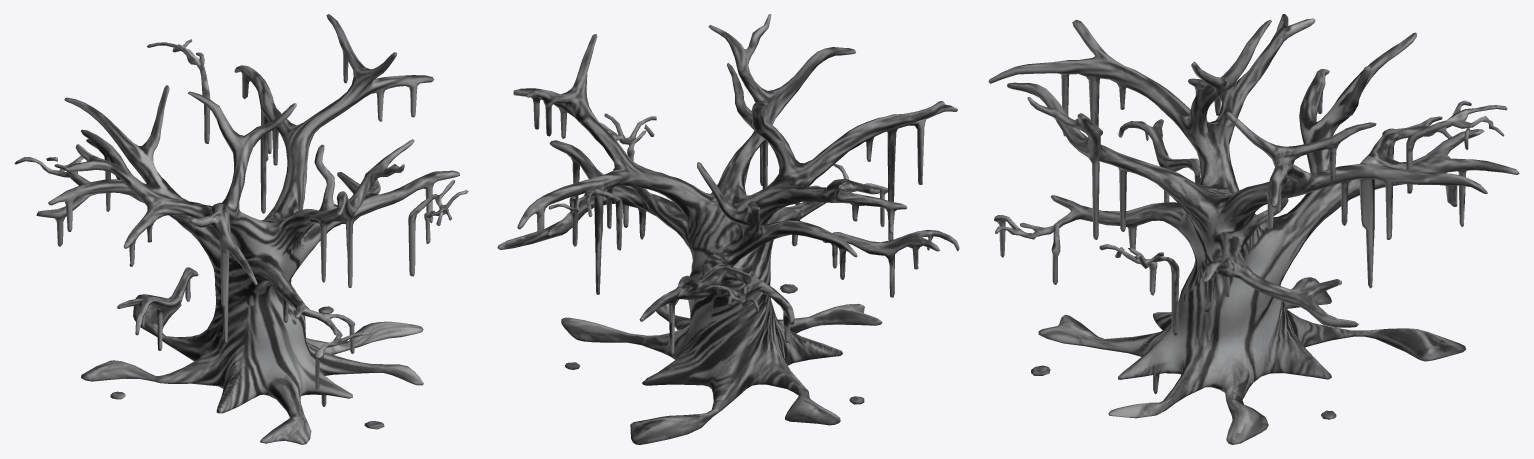
Rendered from tree1.glb.
The picture shows the model from 3 angles, left to right: view 1: azimuth 30°, elevation 25°; view 2: azimuth 150°, elevation 25°; view 3: azimuth 270°, elevation 25°; orthographic projection. The views are drawn at different scales.
Size of the model in its own units: 1.77 by 1.4 by 2.
1 material, 1 textured.
